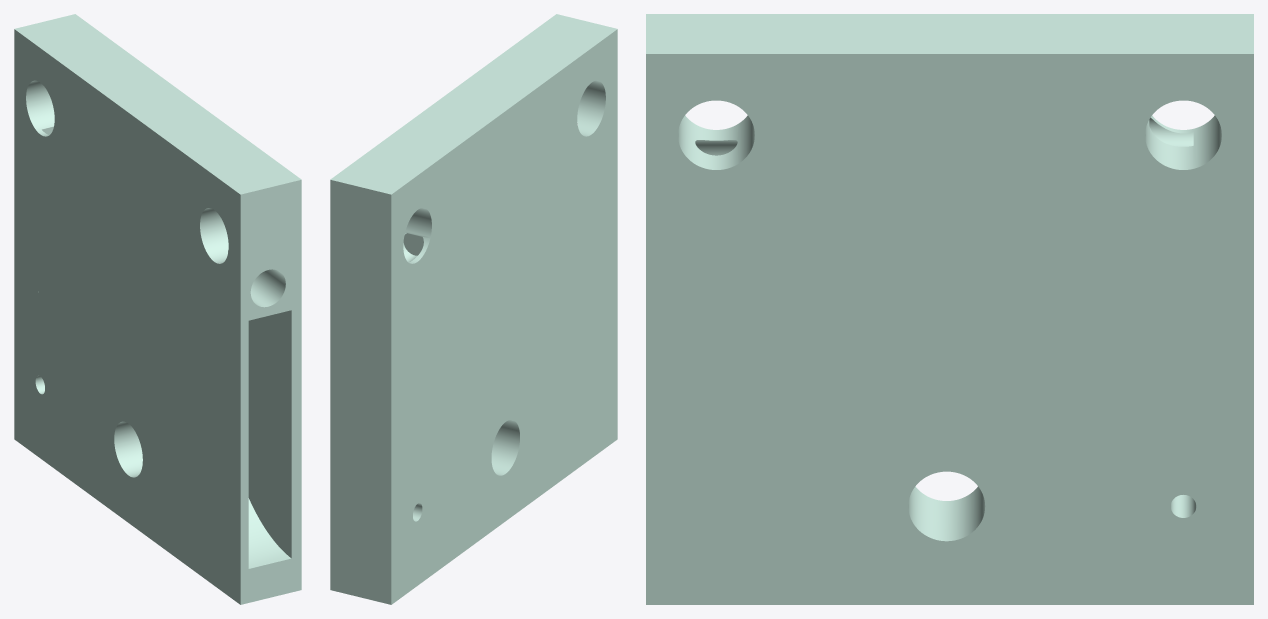
3 views of the same model, side by side, from view 1: azimuth 30°, elevation 25°; view 2: azimuth 150°, elevation 25°; view 3: azimuth 270°, elevation 25° (orthographic). The views are drawn at different scales.
Parts seen in each view (by area): view 1: Renderer Node; view 2: Renderer Node; view 3: Renderer Node.
Boxes of the visible parts, x1,y1,x2,y2 form: Renderer Node: (14, 14, 301, 604); Renderer Node: (330, 14, 617, 604); Renderer Node: (646, 14, 1253, 604).
Size of the model in its own units: 0.2344 by 1.5 by 1.5.
